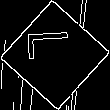L_E: (29, 38, 81, 72)
